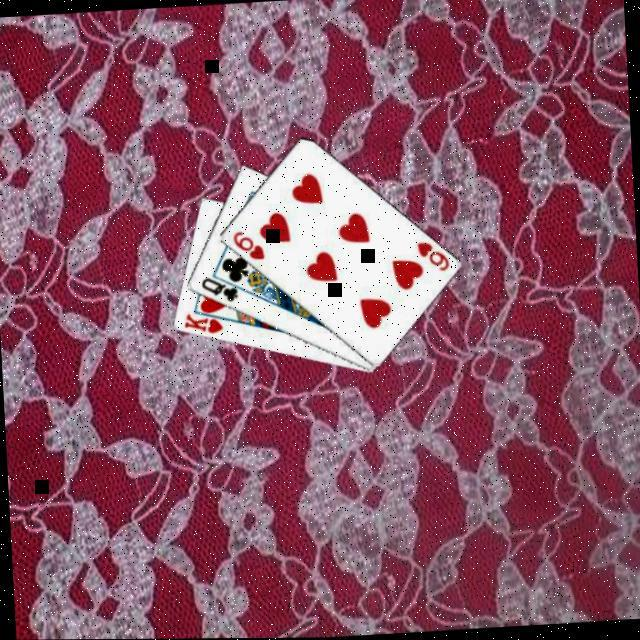6H: (228, 228, 266, 266), (412, 239, 450, 277)
KH: (180, 311, 224, 338)
QC: (197, 274, 240, 306)
